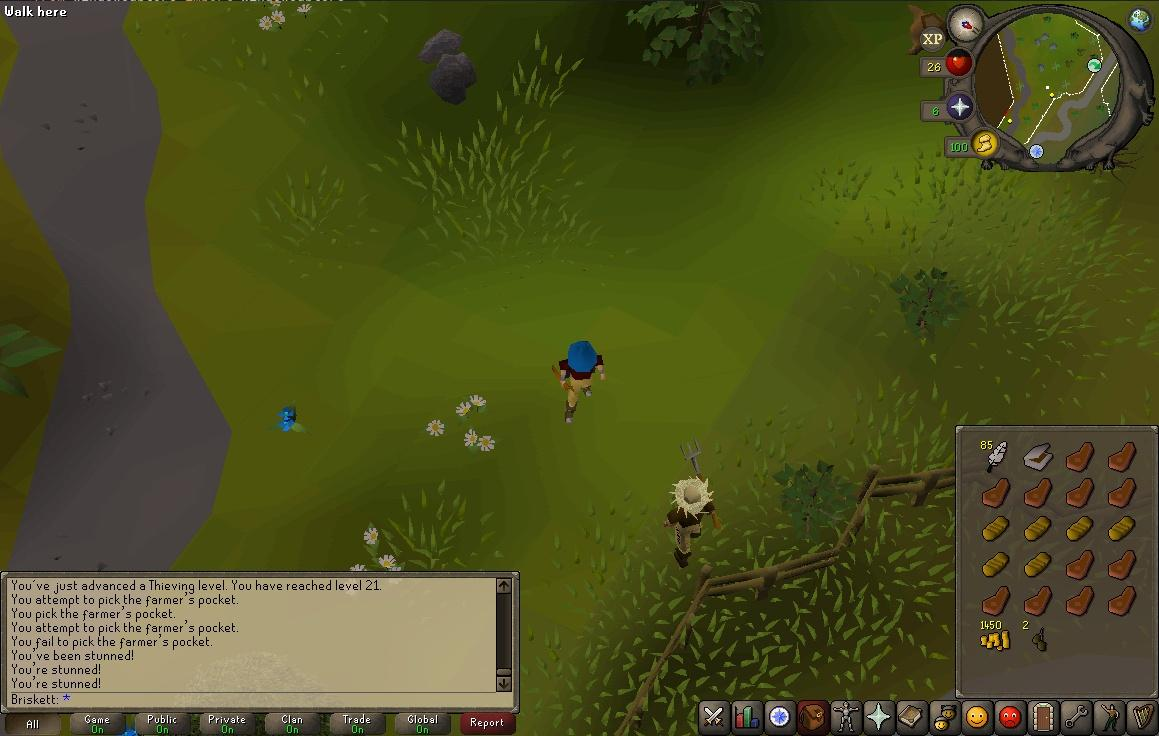Farmer: (664, 442, 721, 568)
